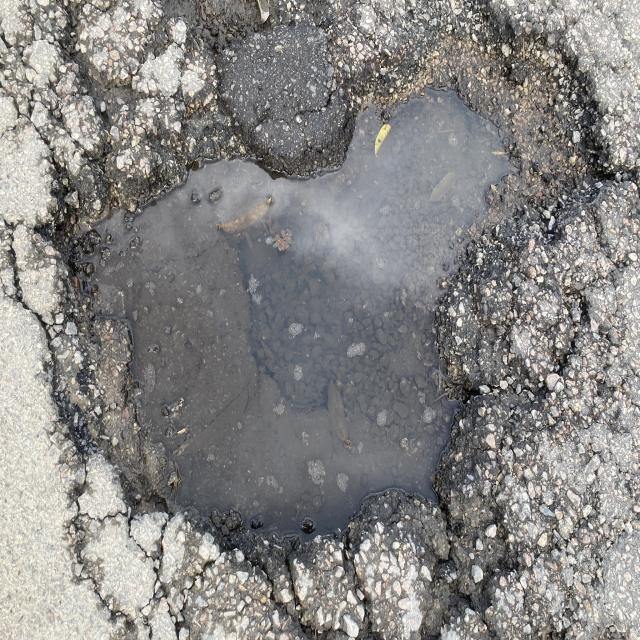pothole: (29, 1, 640, 632)
